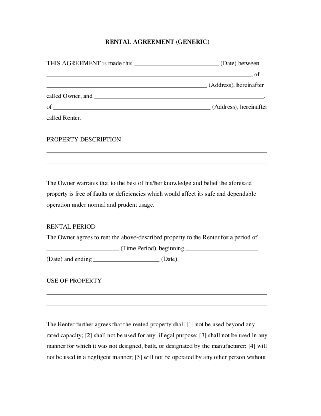textline: (44, 283, 270, 299), (44, 155, 270, 168), (44, 297, 270, 310), (45, 143, 269, 156), (45, 67, 253, 80), (54, 100, 210, 112), (44, 80, 208, 91), (92, 91, 266, 101), (131, 52, 221, 69), (45, 240, 121, 253), (184, 242, 260, 254), (92, 253, 160, 265)
